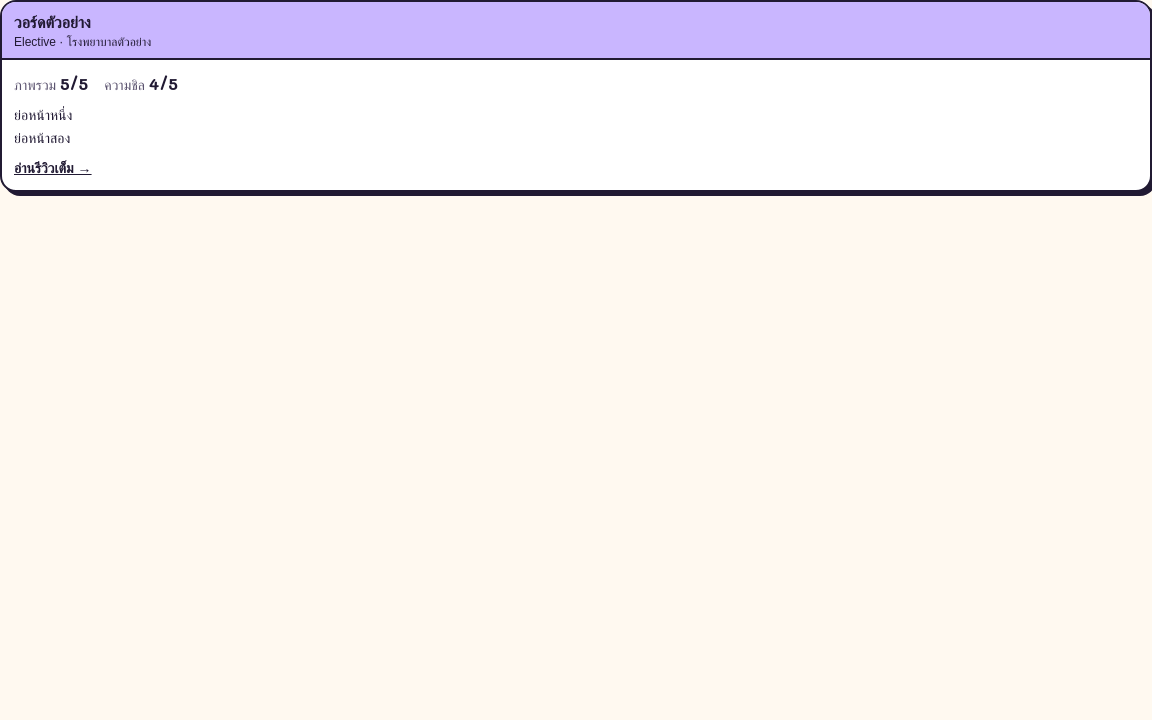
Test: the full review opens with every part under its heading, extra blank lines removed
Click the button "อ่านรีวิวเต็ม →". click: coordinates (53, 168)
box: x1=14 y1=158 x2=92 y2=178
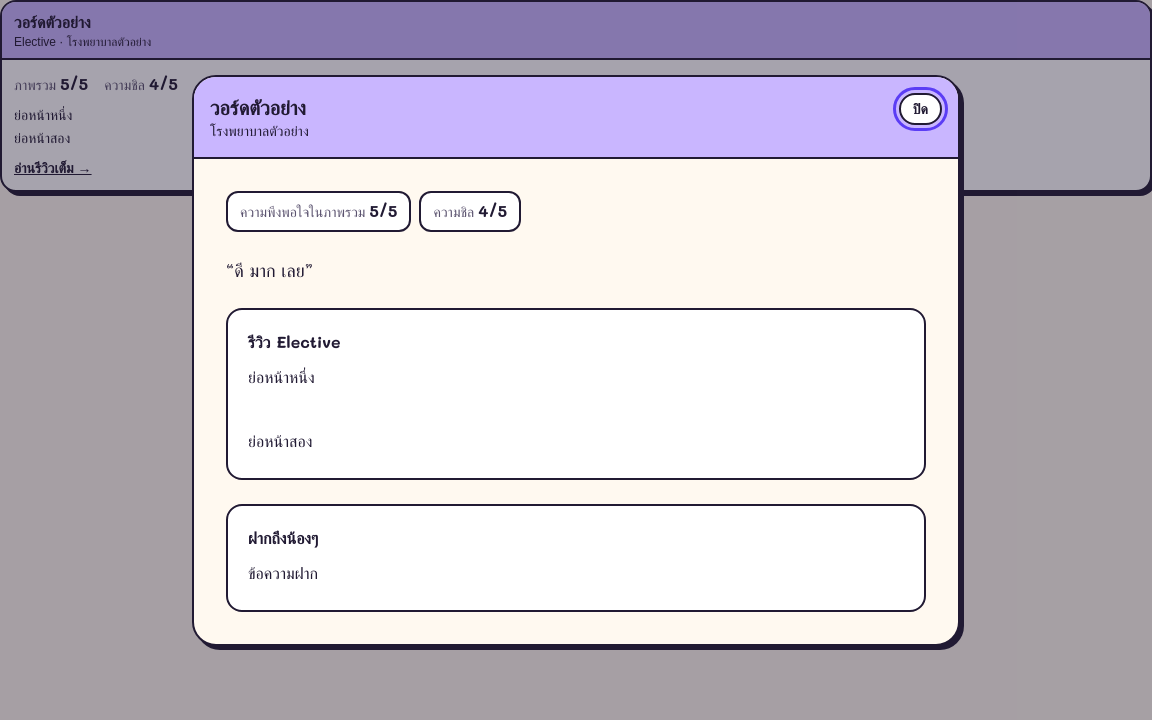
Check: the heading "รีวิว Elective" is shown, box x1=248 y1=330 x2=340 y2=352
Check: the heading "ฝากถึงน้องๆ" is shown, box x1=248 y1=526 x2=318 y2=548
Check: the dialog "วอร์ดตัวอย่าง" shows "ข้อความฝาก", box x1=248 y1=564 x2=318 y2=582
